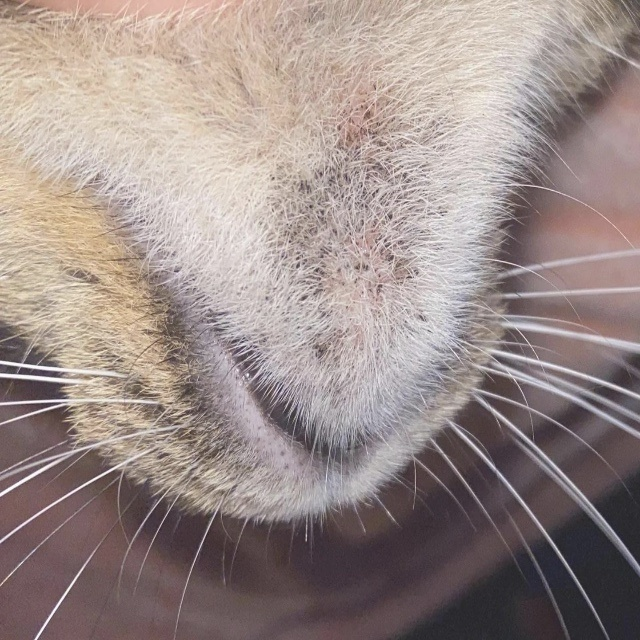acne: (260, 90, 433, 416)
